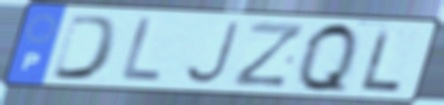D: (47, 12, 123, 82)
J: (181, 20, 243, 87)
L: (117, 15, 165, 85), (359, 25, 405, 93)
Q: (296, 19, 361, 97)
Z: (228, 19, 308, 89)
